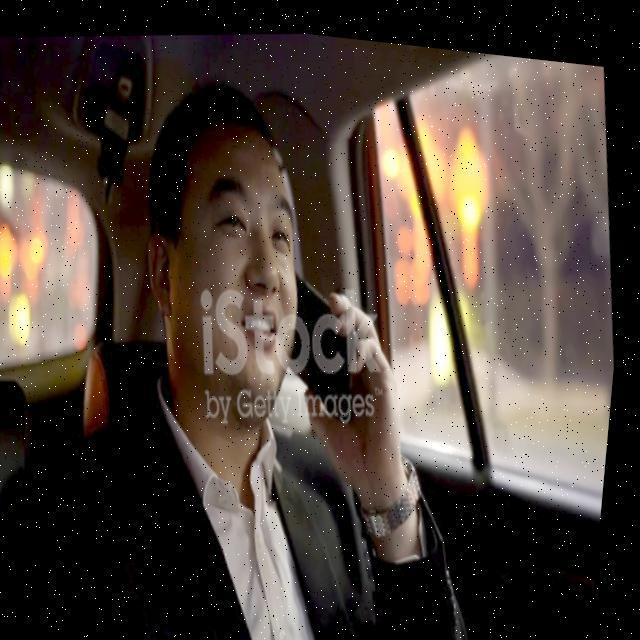PhoneCall: (282, 255, 378, 427)
